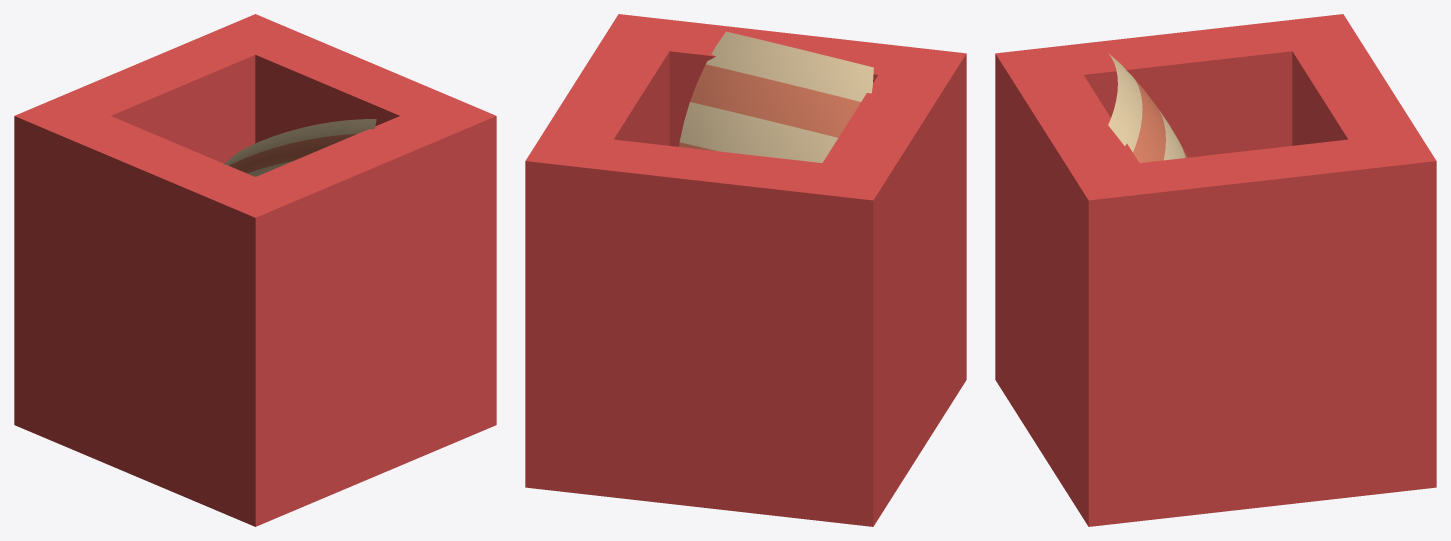
3 views of the same model, side by side, from view 1: azimuth 30°, elevation 25°; view 2: azimuth 150°, elevation 25°; view 3: azimuth 270°, elevation 25° (orthographic). The views are drawn at different scales.
Visible parts, largest first — view 1: mergedBlocks(Clone); view 2: mergedBlocks(Clone); view 3: mergedBlocks(Clone).
Part boxes in pixels (<box>): mergedBlocks(Clone): <box>14,14,496,526</box>; mergedBlocks(Clone): <box>525,14,966,526</box>; mergedBlocks(Clone): <box>995,14,1436,526</box>.
Size of the model in its own units: 0.3062 by 0.2679 by 0.3062.
